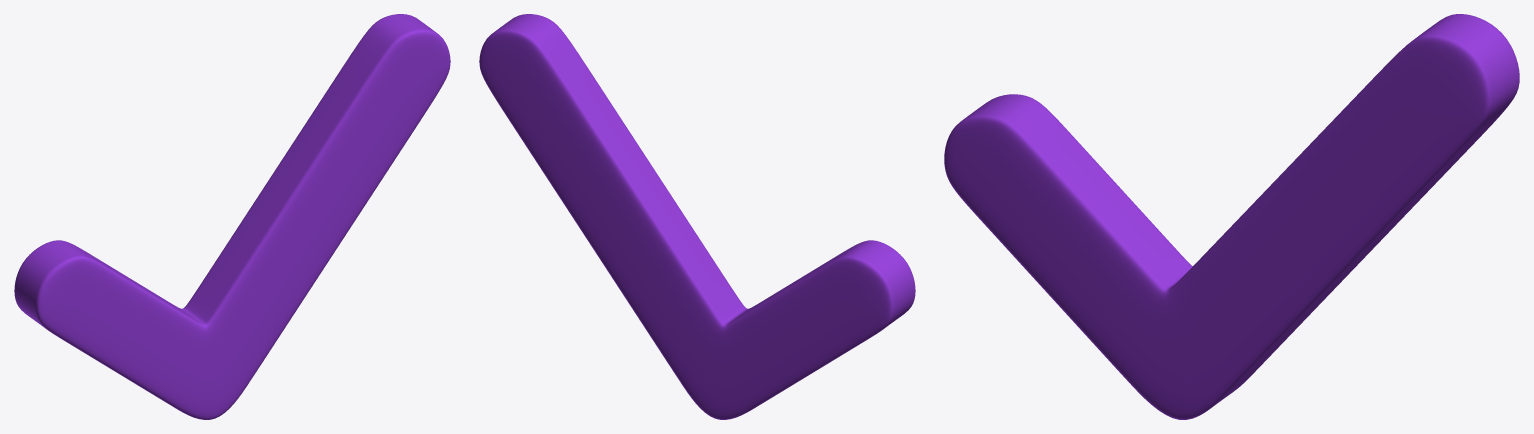
File: tick.fbx
The picture shows the model from 3 angles, left to right: view 1: azimuth 30°, elevation 25°; view 2: azimuth 150°, elevation 25°; view 3: azimuth 330°, elevation 25°; orthographic projection. The views are drawn at different scales.
Parts seen in each view (by area): view 1: Tick; view 2: Tick; view 3: Tick.
Boxes of the visible parts, box(x1,y1,x2,y2) form: Tick: box(14, 14, 450, 419); Tick: box(479, 14, 915, 419); Tick: box(944, 14, 1519, 419).
Bounding box in the file's own units: 165 × 129 × 18.24.
